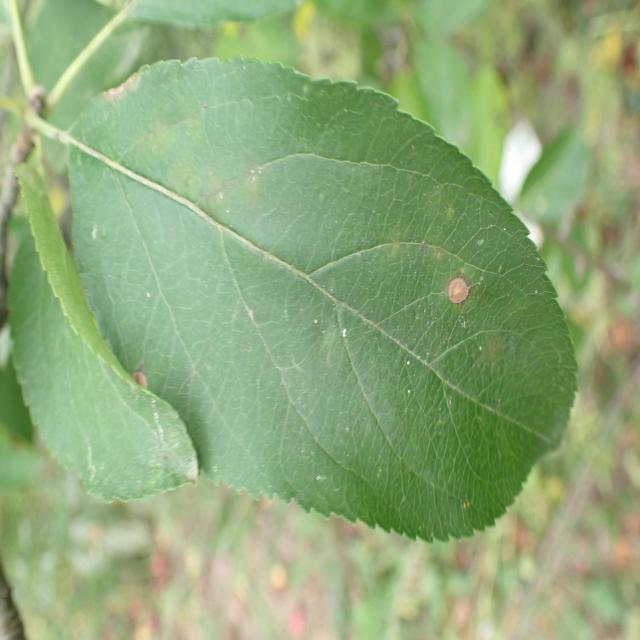frog-eye-leaf-spot: (64, 54, 580, 542)
